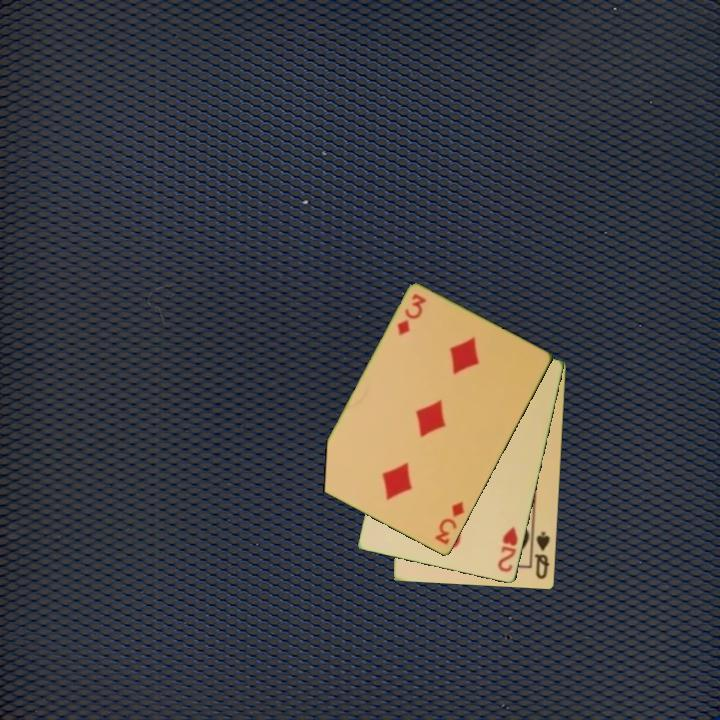2h: (495, 523, 521, 576)
3d: (431, 498, 467, 548), (394, 290, 430, 338)
Qs: (532, 528, 553, 582)
